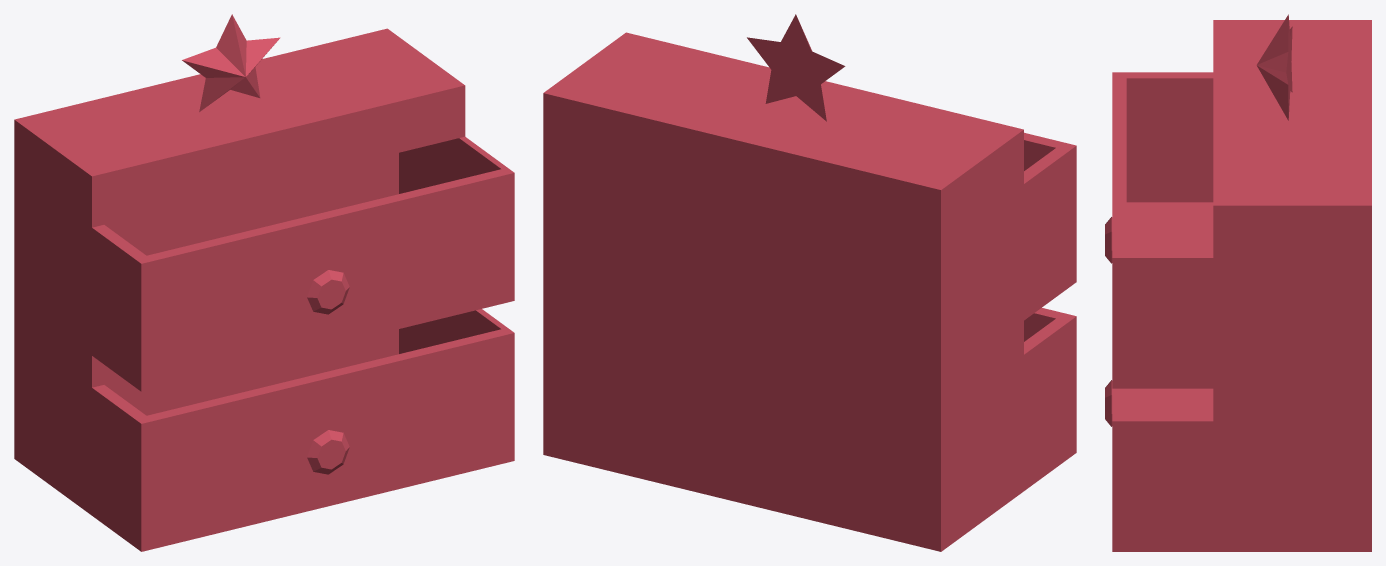
File: Dazzling Hillar-Albar.glb
3 renders of one model, left to right at view 1: azimuth 30°, elevation 25°; view 2: azimuth 150°, elevation 25°; view 3: azimuth 270°, elevation 25°, orthographic. The views are drawn at different scales.
Parts seen in each view (by area): view 1: Mesh_Mesh_head_geo.001_lambert2SG.001; view 2: Mesh_Mesh_head_geo.001_lambert2SG.001; view 3: Mesh_Mesh_head_geo.001_lambert2SG.001.
Part boxes in pixels (left/top/right/bottom): Mesh_Mesh_head_geo.001_lambert2SG.001: left=14, top=14, right=514, bottom=551; Mesh_Mesh_head_geo.001_lambert2SG.001: left=543, top=14, right=1076, bottom=551; Mesh_Mesh_head_geo.001_lambert2SG.001: left=1105, top=14, right=1371, bottom=551.
Bounding box in the file's own units: 61 × 67.41 × 37.
